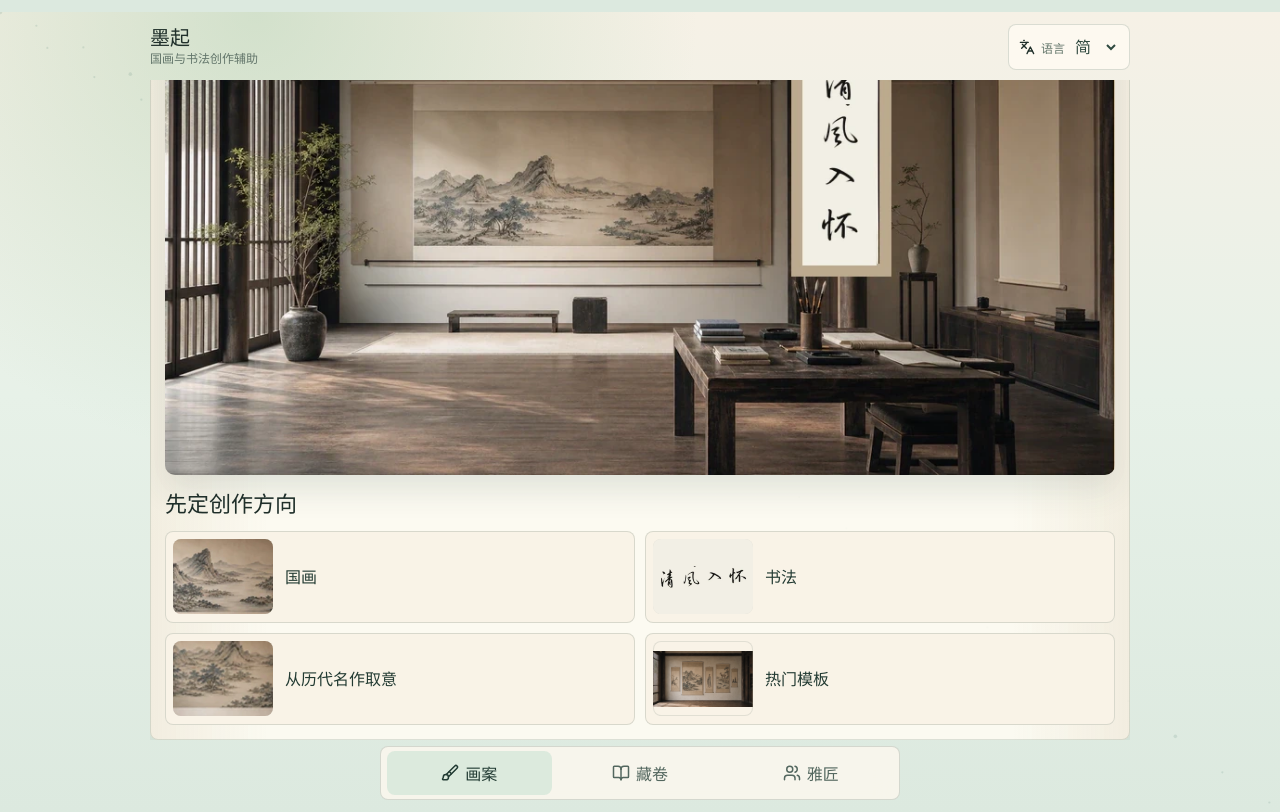
Test: App › keeps Studio generation available when other tabs have active jobs
This screenshot has width=1280, height=812.
(page scrolled)
What coordinates should you click on to do the following:
click the button "国画"
I would click on:
 (223, 577)
Its box is [165, 531, 635, 623].
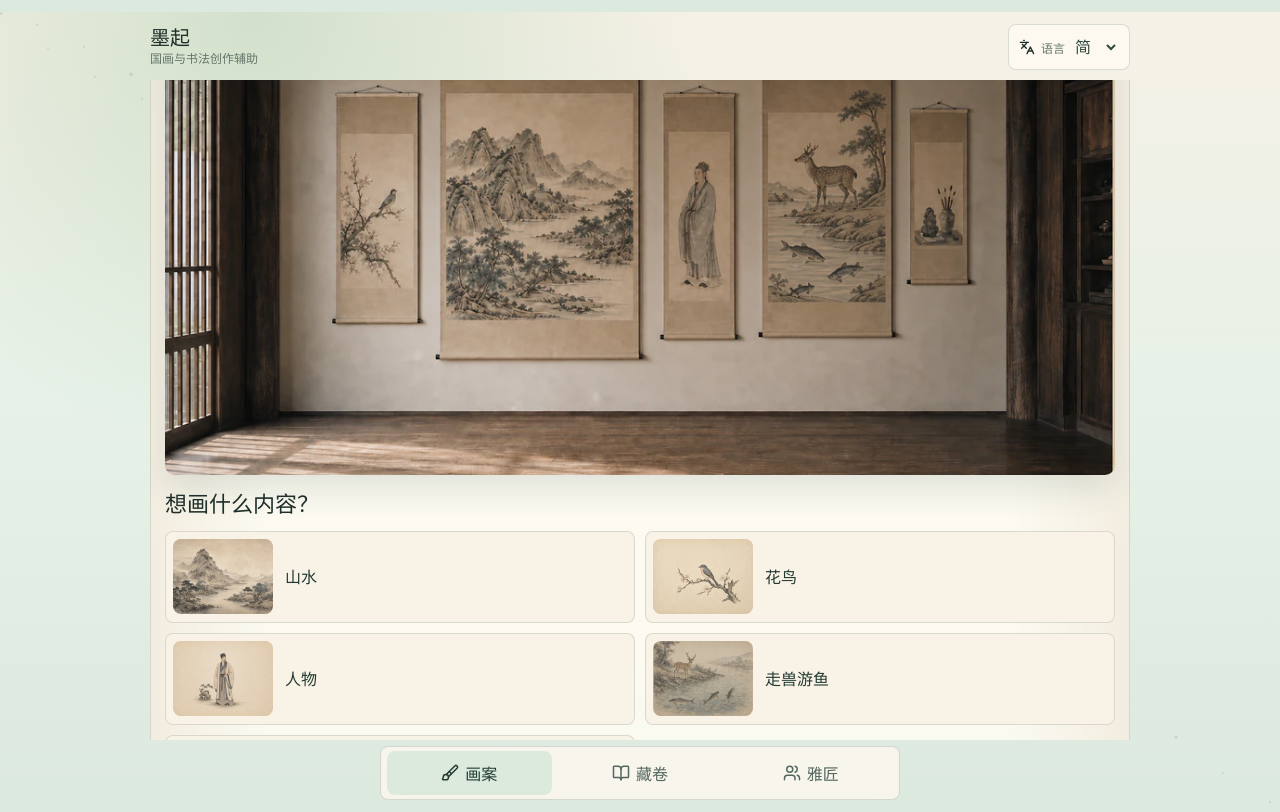
What coordinates should you click on to do the following:
click the button "山水"
I would click on:
 (223, 577)
Its box is [165, 531, 635, 623].
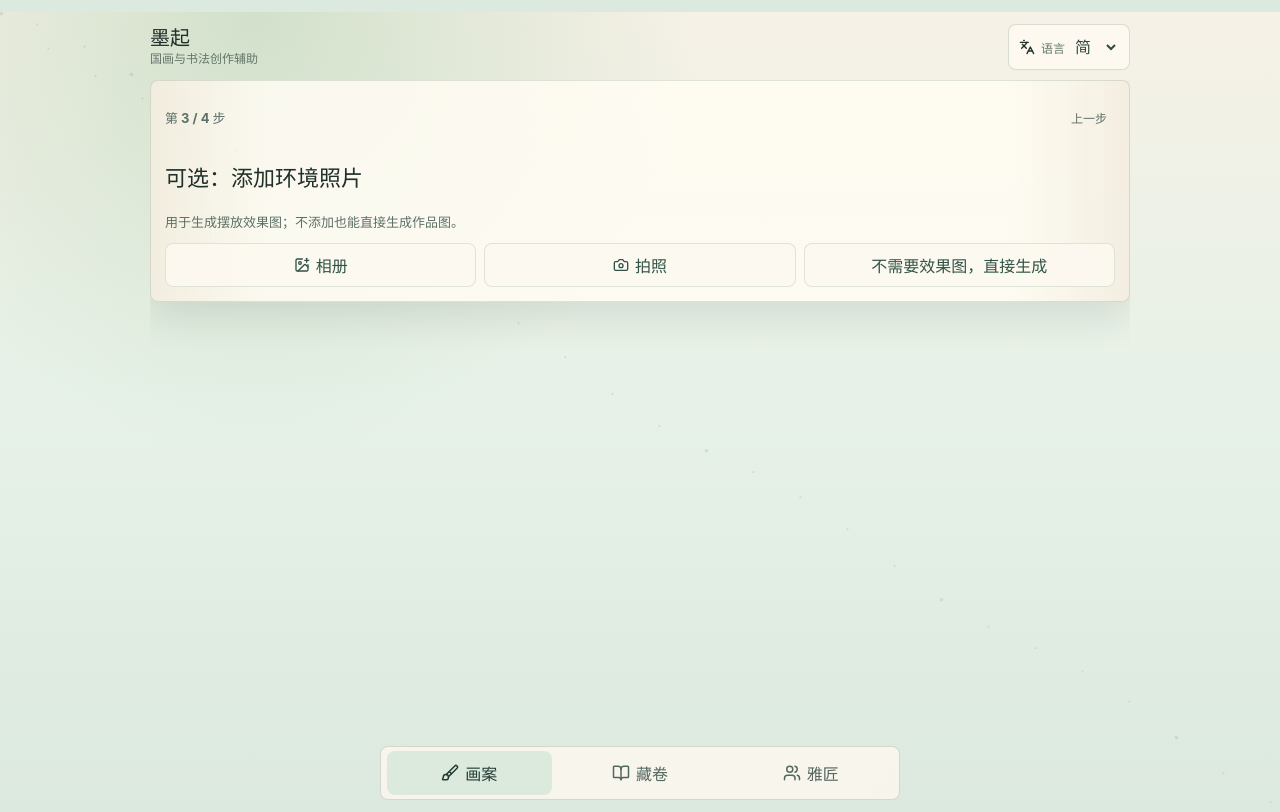
Expected: the button "不需要效果图，直接生成" is enabled, [804, 243, 1115, 287]
